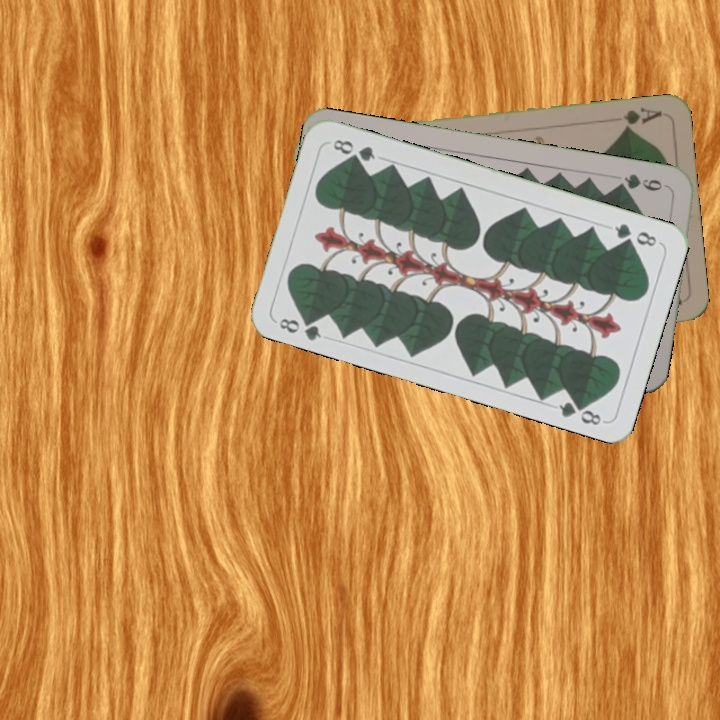G8: (275, 311, 324, 343), (610, 219, 660, 249)
G9: (612, 170, 672, 194)
GA: (619, 103, 665, 132)
